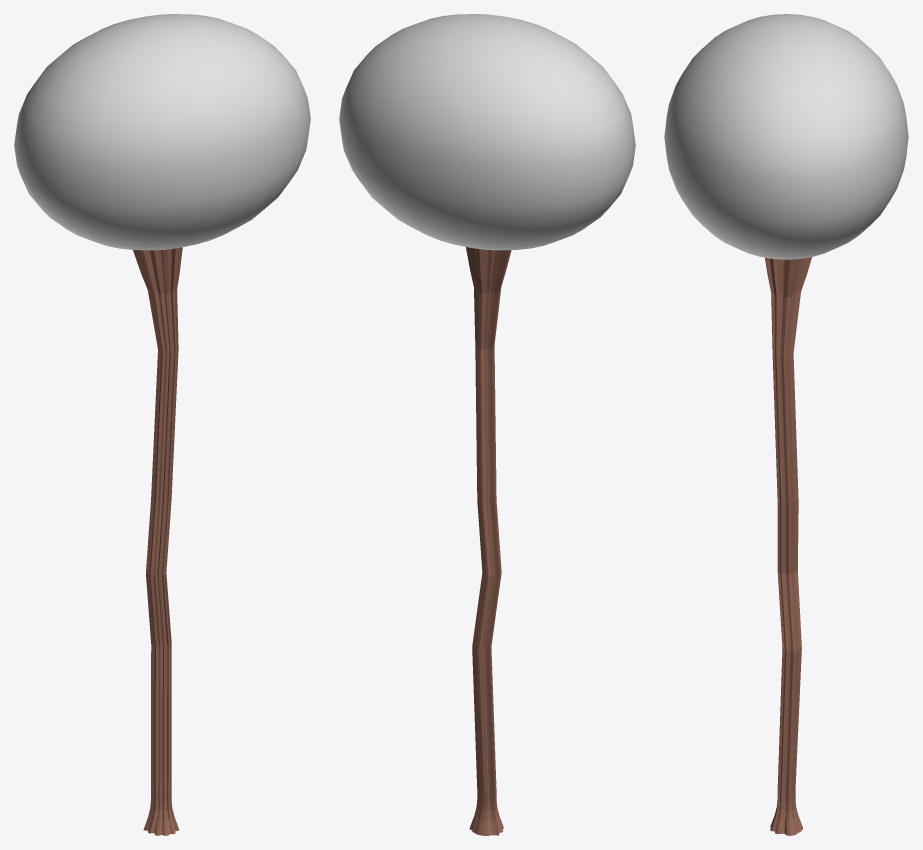
The model's file is arbol_1.fbx.
The picture shows the model from 3 angles, left to right: view 1: azimuth 30°, elevation 25°; view 2: azimuth 150°, elevation 25°; view 3: azimuth 270°, elevation 25°; orthographic projection.
Visible parts, largest first — view 1: Arbol_1; view 2: Arbol_1; view 3: Arbol_1.
Boxes of the visible parts, left/top/right/bottom form: Arbol_1: left=14, top=14, right=310, bottom=835; Arbol_1: left=339, top=14, right=635, bottom=835; Arbol_1: left=664, top=14, right=908, bottom=835.
Size of the model in its own units: 416 by 1180 by 328.
